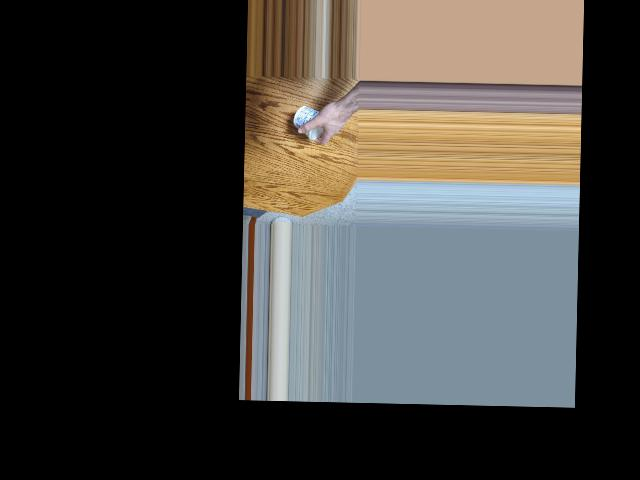cotage: (292, 101, 323, 141)
